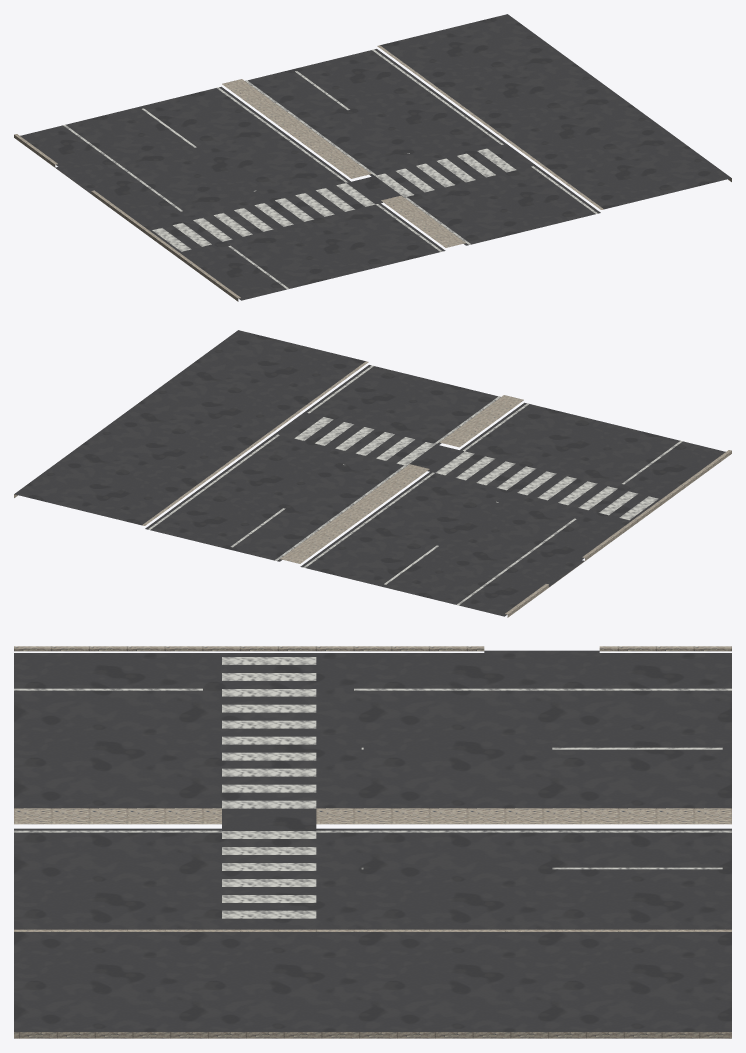
Rendered from SM_Viale_Italia_Incrocio_LOD2.fbx.
3 views of the same model, one above another, from view 1: azimuth 30°, elevation 25°; view 2: azimuth 150°, elevation 25°; view 3: azimuth 270°, elevation 25° (orthographic). The views are drawn at different scales.
Visible parts, largest first — view 1: SM_Viale_Italia_Incrocio_LOD2; view 2: SM_Viale_Italia_Incrocio_LOD2; view 3: SM_Viale_Italia_Incrocio_LOD2.
Boxes of the visible parts, <box> form: SM_Viale_Italia_Incrocio_LOD2: <box>14,14,731,301</box>; SM_Viale_Italia_Incrocio_LOD2: <box>14,330,731,617</box>; SM_Viale_Italia_Incrocio_LOD2: <box>14,646,731,1038</box>.
Bounding box in the file's own units: 2415 × 1900 × 20.
Materials: 3 (3 with a texture image).
